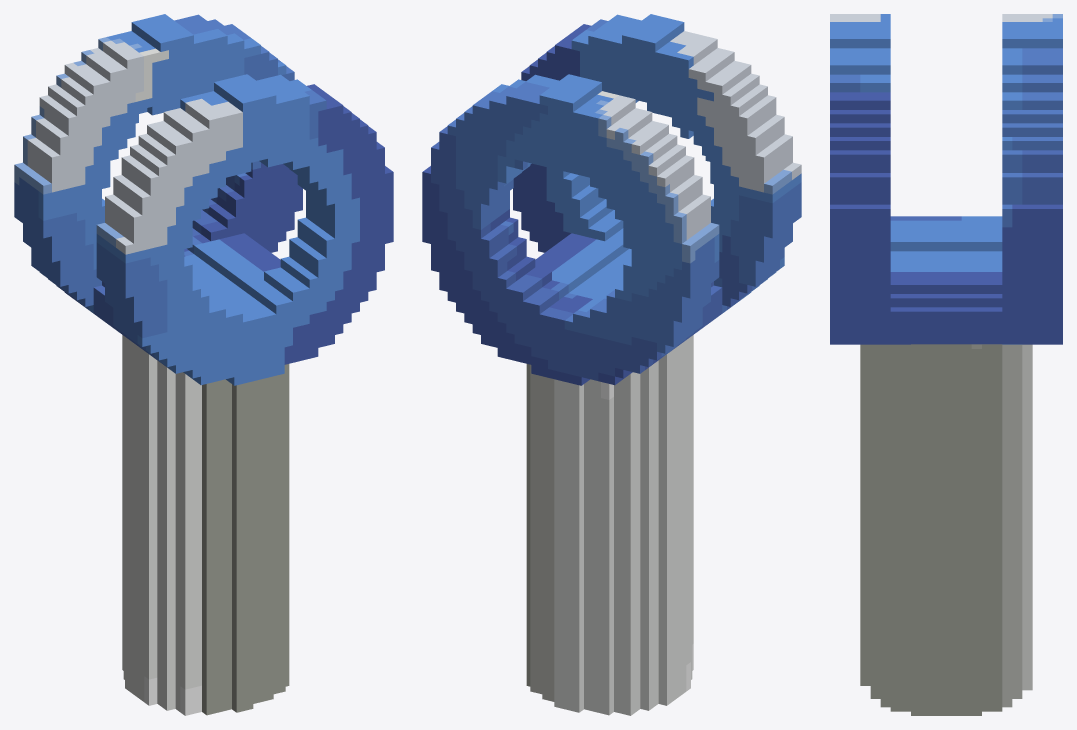
File: pan3.FBX
3 views of the same model, side by side, from view 1: azimuth 30°, elevation 25°; view 2: azimuth 150°, elevation 25°; view 3: azimuth 270°, elevation 25° (orthographic). The views are drawn at different scales.
Parts seen in each view (by area): view 1: default007; view 2: default007; view 3: default007.
Boxes of the visible parts, x1,y1,x2,y2 form: default007: (14,14,393,715); default007: (422,14,801,715); default007: (830,14,1062,715).
Size of the model in its own units: 638 by 1415 by 459.
